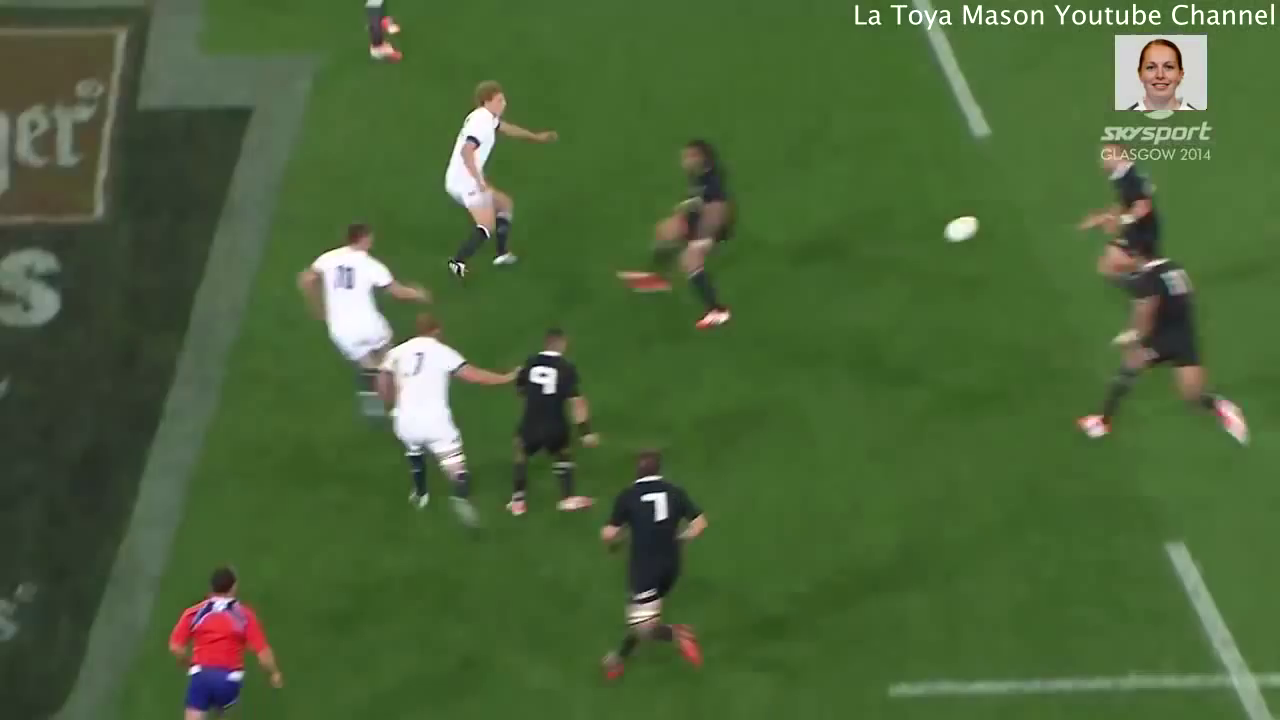ball: (929, 201, 985, 256)
player: (1057, 232, 1261, 466), (367, 308, 532, 542), (291, 214, 449, 448), (586, 439, 715, 692), (431, 74, 570, 289), (609, 128, 746, 344), (501, 319, 611, 531), (153, 558, 291, 720), (1064, 138, 1185, 290)
